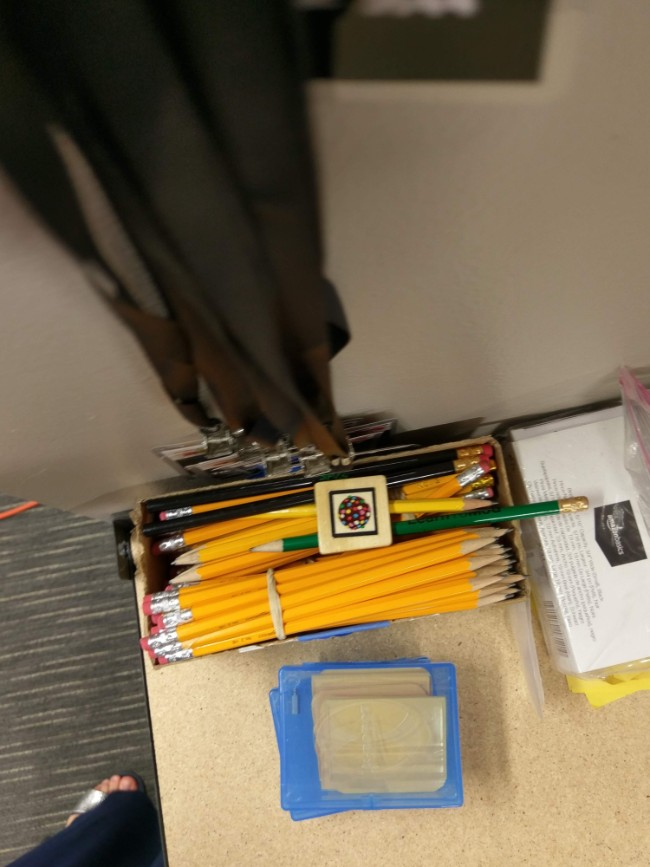cookie: (326, 489, 380, 538)
